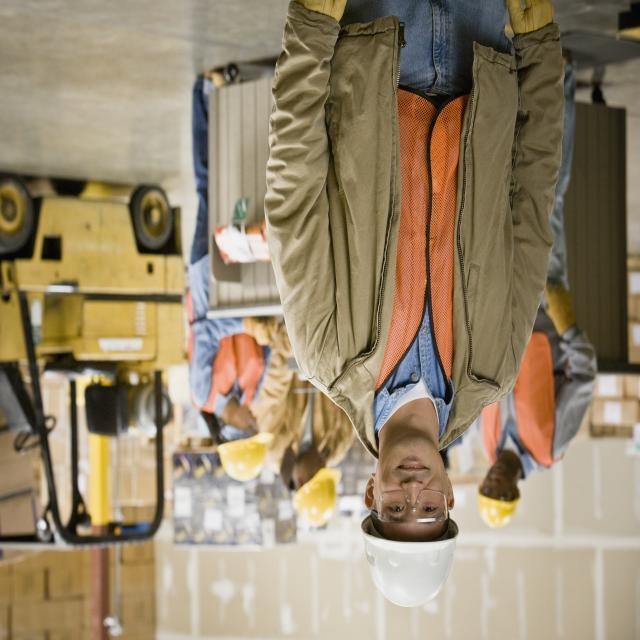safetyhelmet: (347, 468, 475, 612)
